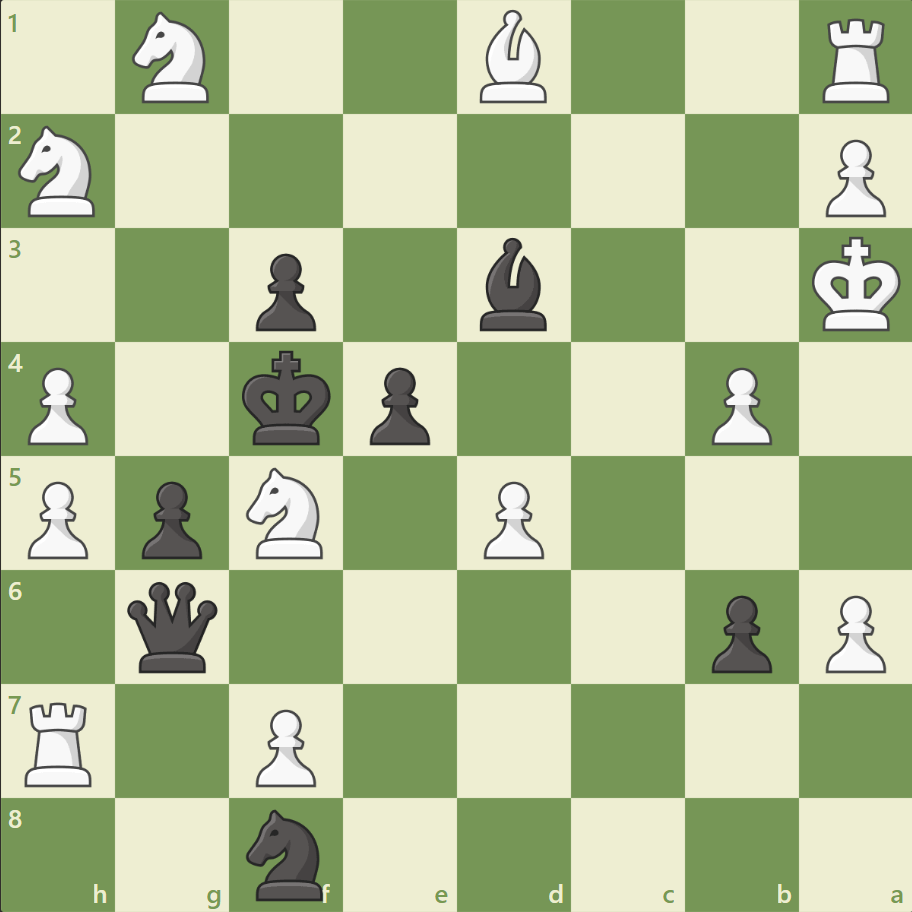B: (471, 6, 555, 109)
K: (806, 231, 906, 339)
N: (124, 7, 222, 110), (238, 461, 335, 564), (11, 121, 108, 223)
P: (247, 700, 322, 791), (474, 473, 549, 564), (20, 473, 95, 564), (701, 359, 776, 450), (20, 359, 95, 450), (815, 586, 889, 677), (815, 132, 889, 223)
R: (19, 693, 102, 790), (814, 12, 897, 109)
b: (471, 233, 555, 336)
k: (238, 344, 338, 452)
n: (238, 802, 335, 904)
p: (701, 586, 776, 677), (133, 473, 208, 564), (247, 246, 322, 337), (361, 359, 435, 450)
q: (124, 576, 223, 676)
